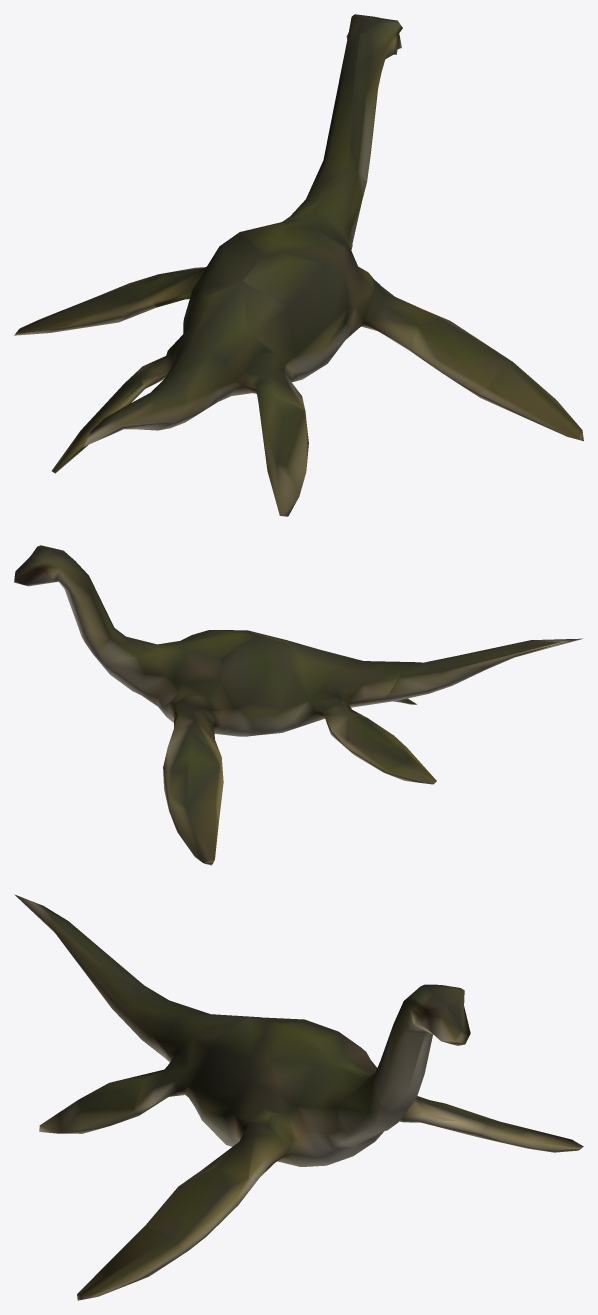
Rendered from beast-nessie.lod.glb.
3 renders of one model, top to bottom at view 1: azimuth 30°, elevation 25°; view 2: azimuth 150°, elevation 25°; view 3: azimuth 270°, elevation 25°, orthographic. The views are drawn at different scales.
Parts seen in each view (by area): view 1: tripo_node_96603394-0335-4e59-9519-7a2a28394368; view 2: tripo_node_96603394-0335-4e59-9519-7a2a28394368; view 3: tripo_node_96603394-0335-4e59-9519-7a2a28394368.
Boxes of the visible parts, x1=… form: tripo_node_96603394-0335-4e59-9519-7a2a28394368: x1=14, y1=14, x2=583, y2=516; tripo_node_96603394-0335-4e59-9519-7a2a28394368: x1=14, y1=545, x2=582, y2=865; tripo_node_96603394-0335-4e59-9519-7a2a28394368: x1=14, y1=894, x2=583, y2=1300.
Size of the model in its own units: 0.995 by 0.5276 by 0.9157.
